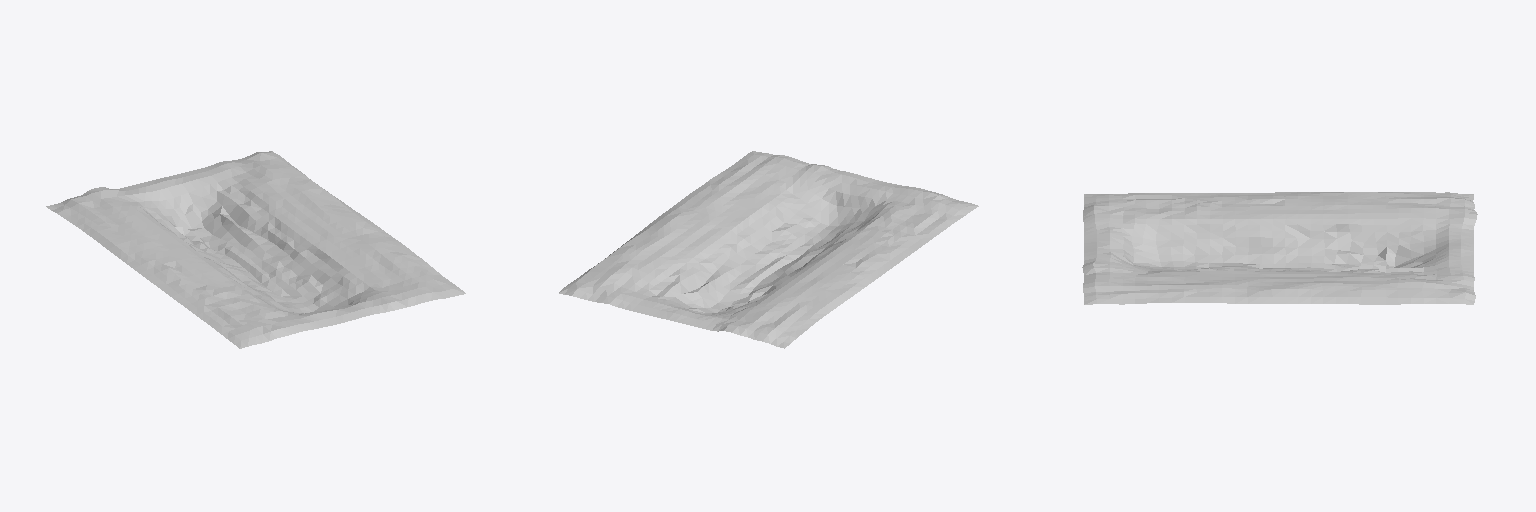
File: lake_terrain.obj
3 views of the same model, side by side, from view 1: azimuth 30°, elevation 25°; view 2: azimuth 150°, elevation 25°; view 3: azimuth 270°, elevation 25° (orthographic).
Parts seen in each view (by area): view 1: terrain; view 2: terrain; view 3: terrain.
Boxes of the visible parts, box(x1,y1,x2,y2) form: terrain: box(46, 151, 465, 348); terrain: box(559, 151, 978, 348); terrain: box(1082, 192, 1477, 304).
Bounding box in the file's own units: 23.51 × 2.82 × 35.29.